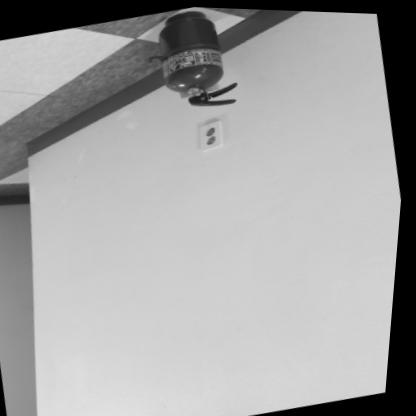FE: (145, 4, 243, 115)
